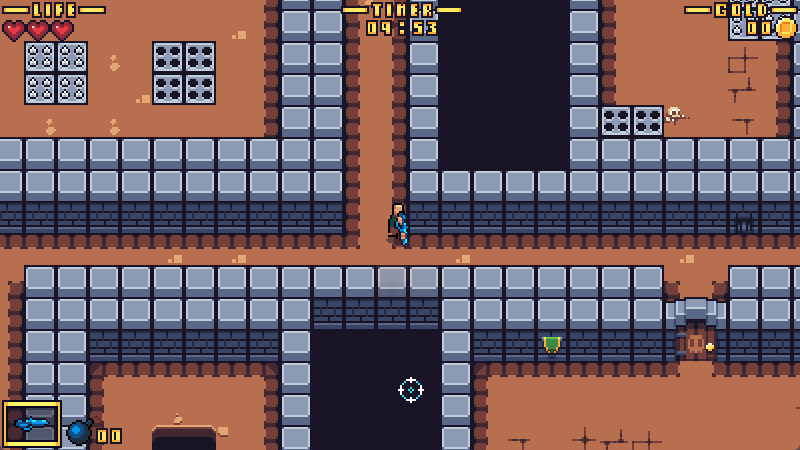aim: (398, 375, 424, 404)
bomb_counter_0: (65, 417, 124, 450)
door: (665, 298, 729, 360)
gold_counter: (684, 1, 800, 41)
health: (1, 17, 76, 41)
player: (386, 201, 409, 249)
timer: (342, 1, 461, 37)
trap_off: (152, 41, 216, 106), (598, 107, 664, 137)
trap_warning: (23, 41, 89, 105)
